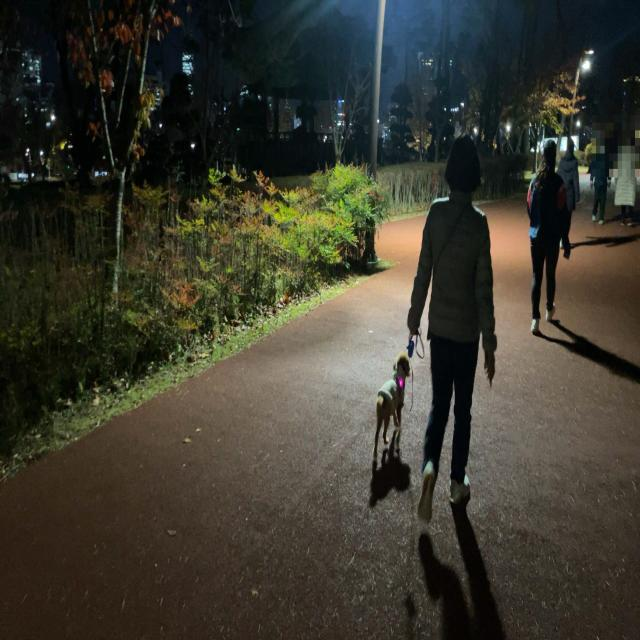Leashed_Dog: (372, 289, 440, 465)
